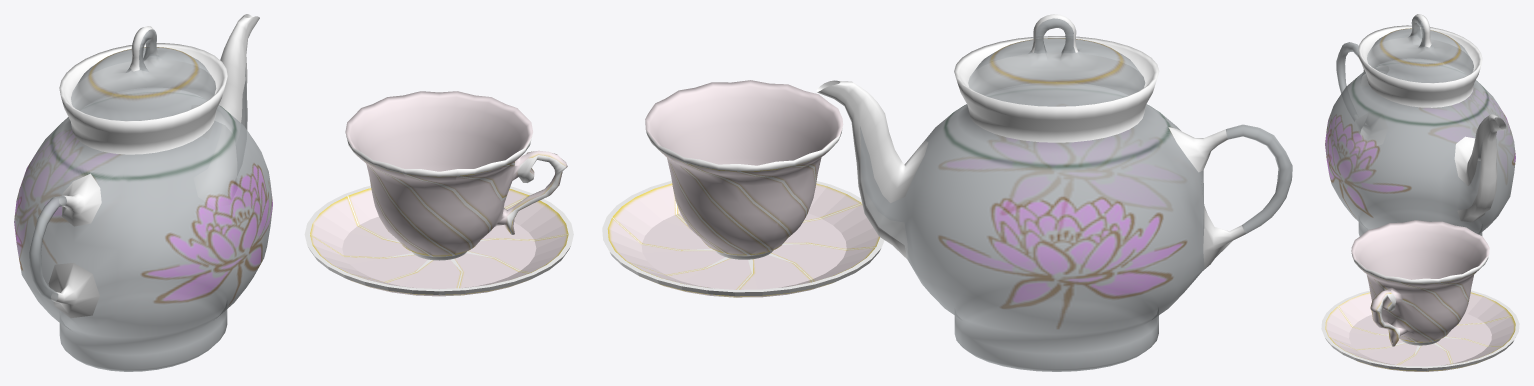
File: Tea_set.gltf
3 renders of one model, left to right at view 1: azimuth 30°, elevation 25°; view 2: azimuth 150°, elevation 25°; view 3: azimuth 270°, elevation 25°, orthographic. The views are drawn at different scales.
Visible parts, largest first — view 1: Teapot, Coffee glass, Plate; view 2: Teapot, Coffee glass, Plate; view 3: Teapot, Coffee glass, Plate.
Boxes of the visible parts, box(x1,y1,x2,y2) form: Teapot: box(14, 14, 272, 371); Coffee glass: box(345, 91, 567, 260); Plate: box(304, 186, 573, 296); Teapot: box(816, 14, 1292, 371); Coffee glass: box(645, 80, 843, 259); Plate: box(602, 180, 884, 297); Teapot: box(1325, 14, 1515, 236); Coffee glass: box(1351, 220, 1489, 346); Plate: box(1321, 290, 1519, 371).
Bounding box in the file's own units: 0.7846 × 0.3972 × 0.3148.
Materials: 6 (3 with a texture image).
